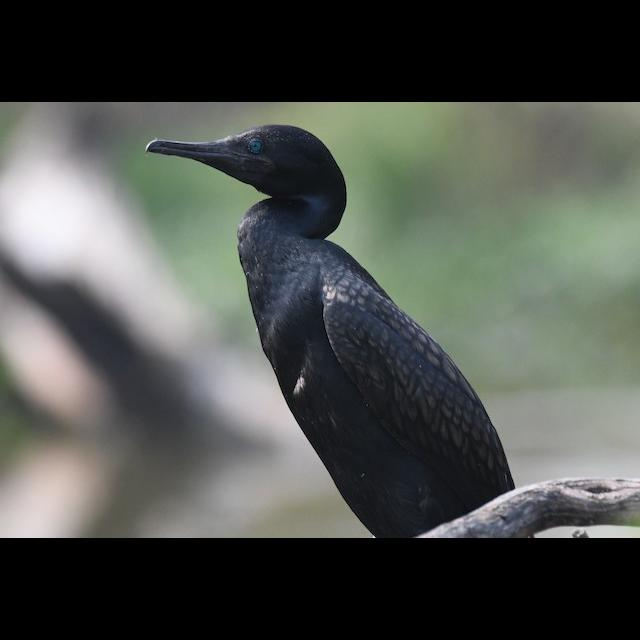cormorant: (132, 122, 528, 520)
